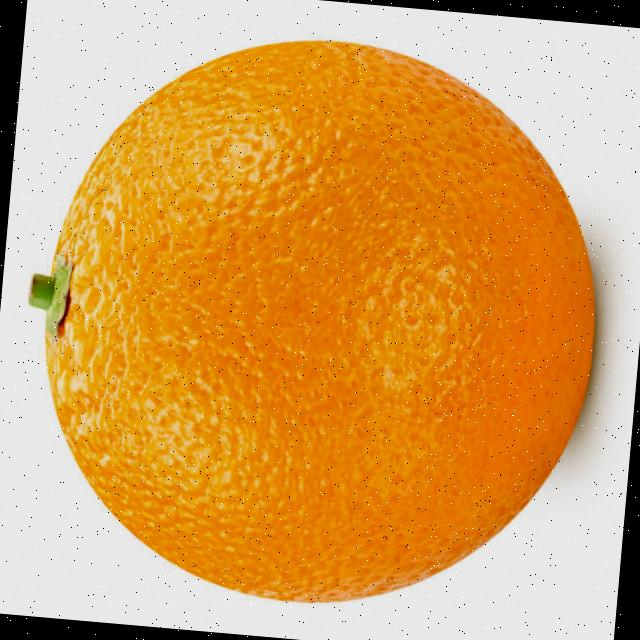Ripe: (6, 13, 623, 628)
